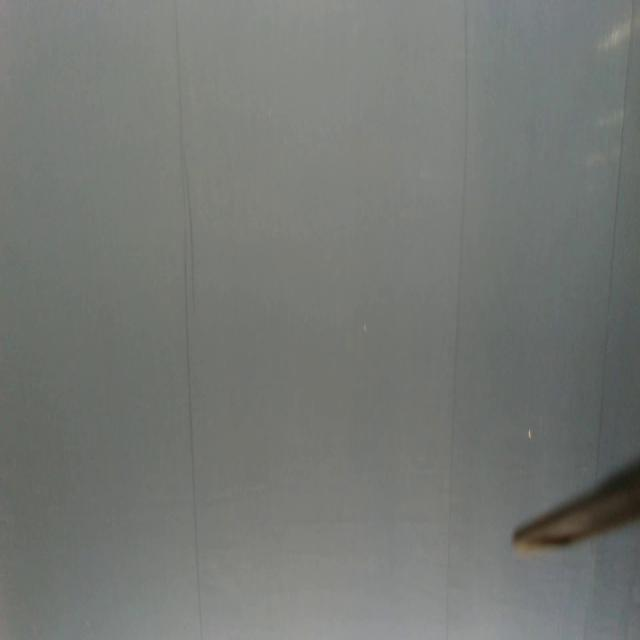crease: (175, 0, 204, 640), (596, 0, 636, 460), (444, 0, 470, 637)
hole: (526, 425, 534, 445), (362, 324, 368, 336)
